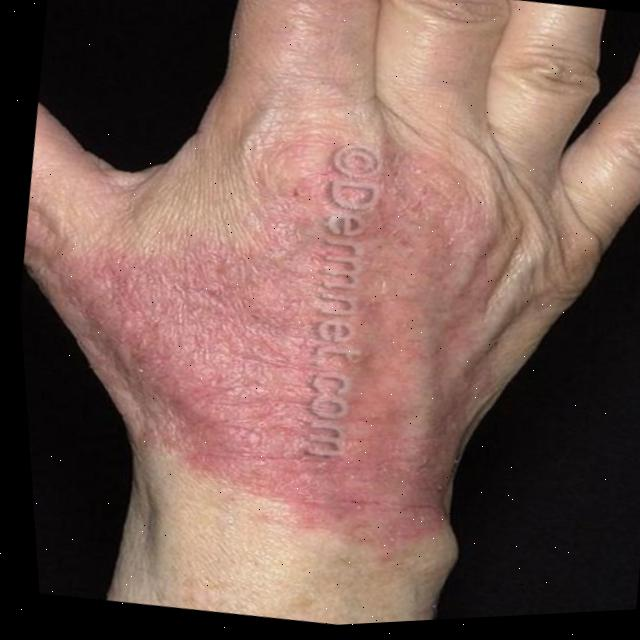Eczema: (47, 83, 540, 614)
